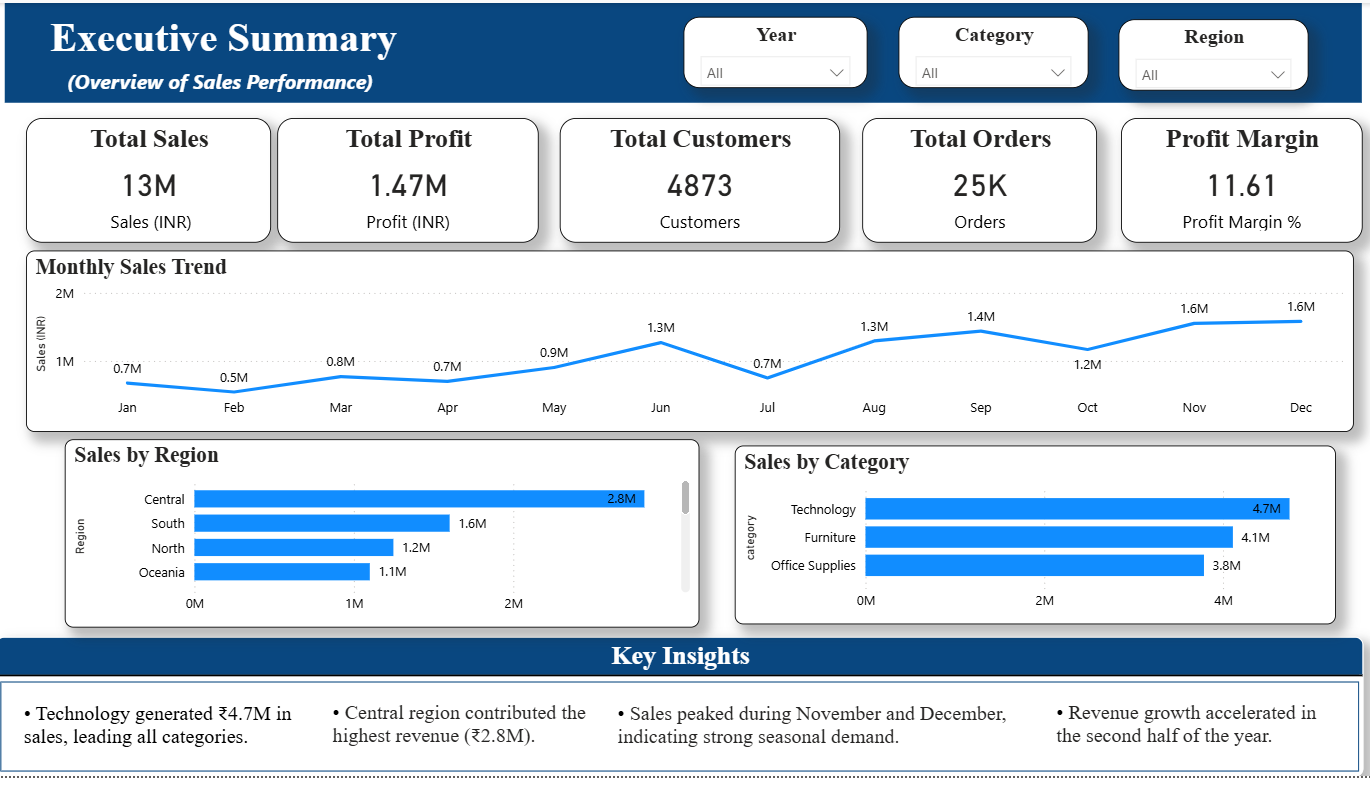

The dashboard page shown, as its layout file describes it:
{"tool":"powerbi","page":{"name":"Executive Summary","canvas":[1280,720],"ordinal":0},"visuals":[{"type":"card","title":"Total Sales","fields":{"Values":["superstore_cleaned_complete.Total Sales"]},"box":[27.9,107,227.9,116.3],"z":0},{"type":"card","title":"Total Profit","fields":{"Values":["superstore_cleaned_complete.Total Profit"]},"box":[261.6,107,243,116.3],"z":1000},{"type":"card","title":"Total Customers","fields":{"Values":["superstore_cleaned_complete.Total Customers"]},"box":[524.4,107,260.5,116.3],"z":2000},{"type":"card","title":"Total Orders","fields":{"Values":["superstore_cleaned_complete.Total Orders"]},"box":[805.8,107,218.6,116.3],"z":3000},{"type":"slicer","title":"Region","fields":{"Values":["superstore_cleaned_complete.region"]},"box":[1046.5,12.8,173.3,68.6],"z":4000},{"type":"shape","title":"Key Insights   ","box":[0,589.5,1272.1,130.2],"z":5000},{"type":"textbox","box":[8.1,0,1262.8,93],"z":6000},{"type":"slicer","title":"Year","fields":{"Values":["superstore_cleaned_complete.order_year"]},"box":[639.5,12.8,170.9,66.3],"z":7000},{"type":"slicer","title":"Category","fields":{"Values":["superstore_cleaned_complete.category"]},"box":[839.5,12.8,176.7,66.3],"z":8000},{"type":"card","title":"Profit Margin","fields":{"Values":["superstore_cleaned_complete.Profit Margin %"]},"box":[1046.5,107,224.4,116.3],"z":9000},{"type":"slicer","title":"Region","fields":{"Values":["superstore_cleaned_complete.region"]},"box":[1044.2,15.1,176.7,66.3],"z":10000},{"type":"lineChart","title":"Monthly Sales Trend","fields":{"Y":["Sum(superstore_cleaned_complete.sales)"],"Category":["superstore_cleaned_complete.Month Name"]},"box":[27.9,230.2,1234.9,168.6],"z":11000},{"type":"clusteredBarChart","title":"Sales by Region","fields":{"Y":["Sum(superstore_cleaned_complete.sales)"],"Category":["superstore_cleaned_complete.region"]},"box":[64,405.8,590.7,175.6],"z":12000},{"type":"clusteredBarChart","title":"Sales by Category","fields":{"Y":["Sum(superstore_cleaned_complete.sales)"],"Category":["superstore_cleaned_complete.category"]},"box":[687.2,411.6,559.3,166.3],"z":13000},{"type":"textbox","box":[20.9,645.4,265.1,58.1],"z":14000},{"type":"textbox","box":[308.1,644.2,265.1,58.1],"z":15000},{"type":"textbox","box":[573.3,645.4,372.1,58.1],"z":16000},{"type":"textbox","box":[981.4,644.2,265.1,58.1],"z":17000}]}

Visuals, with their boxes in screenshot pixels (x1, y1, x2, y2), scaled from the page's 1280x720 canvas onto the 1370x786 screenshot:
"Total Sales" card: region(30, 117, 274, 244)
"Total Profit" card: region(280, 117, 540, 244)
"Total Customers" card: region(561, 117, 840, 244)
"Total Orders" card: region(862, 117, 1096, 244)
"Region" slicer: region(1120, 14, 1306, 89)
"Key Insights   " shape: region(0, 644, 1362, 785)
textbox: region(9, 0, 1360, 102)
"Year" slicer: region(684, 14, 867, 86)
"Category" slicer: region(899, 14, 1088, 86)
"Profit Margin" card: region(1120, 117, 1360, 244)
"Region" slicer: region(1118, 16, 1307, 89)
"Monthly Sales Trend" lineChart: region(30, 251, 1352, 435)
"Sales by Region" clusteredBarChart: region(68, 443, 701, 635)
"Sales by Category" clusteredBarChart: region(736, 449, 1334, 631)
textbox: region(22, 705, 306, 768)
textbox: region(330, 703, 614, 767)
textbox: region(614, 705, 1012, 768)
textbox: region(1050, 703, 1334, 767)
